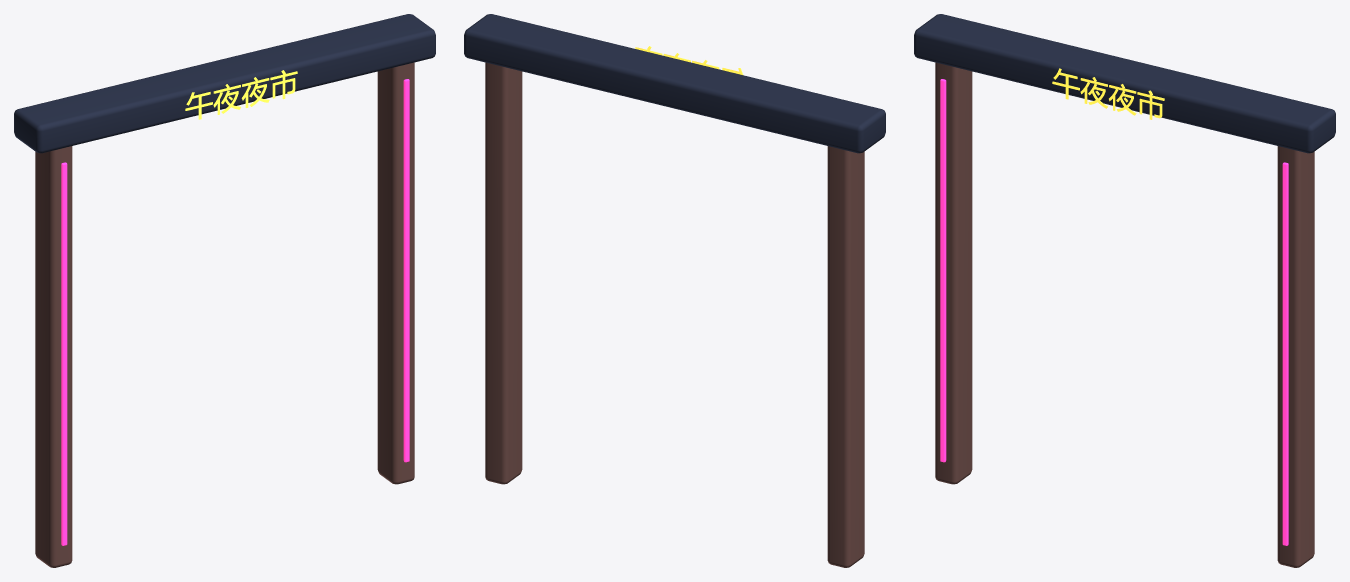
The model's file is market_gate.glb.
3 renders of one model, left to right at view 1: azimuth 30°, elevation 25°; view 2: azimuth 150°, elevation 25°; view 3: azimuth 330°, elevation 25°, orthographic.
Visible parts, largest first — view 1: Gate beam, Gate post, Gate post.001, Gate vertical neon, Gate vertical neon.001, Sign_午夜夜市; view 2: Gate beam, Gate post, Gate post.001; view 3: Gate beam, Gate post.001, Gate post, Gate vertical neon.001, Gate vertical neon, Sign_午夜夜市.
Part boxes in pixels (x1,y1,x2,y2): Gate beam: [14, 14, 435, 153]; Gate post: [35, 146, 72, 567]; Gate post.001: [377, 62, 414, 484]; Gate vertical neon: [61, 162, 67, 545]; Gate vertical neon.001: [403, 79, 409, 462]; Sign_午夜夜市: [185, 70, 297, 119]; Gate beam: [464, 14, 885, 153]; Gate post: [827, 146, 864, 567]; Gate post.001: [485, 62, 522, 484]; Gate beam: [914, 14, 1335, 153]; Gate post.001: [1277, 146, 1314, 567]; Gate post: [935, 62, 972, 484]; Gate vertical neon.001: [1282, 162, 1288, 545]; Gate vertical neon: [940, 79, 946, 462]; Sign_午夜夜市: [1052, 68, 1164, 119].
Bounding box in the file's own units: 3.5 × 3.78 × 0.454.
